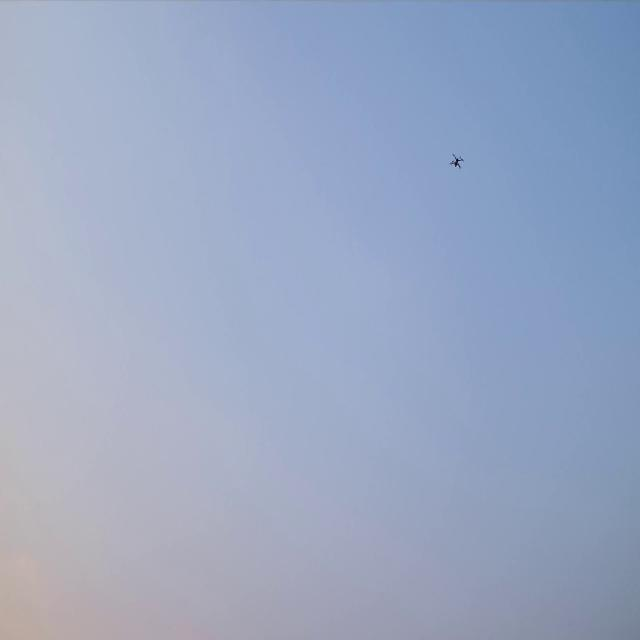UAV: (450, 154, 462, 168)
